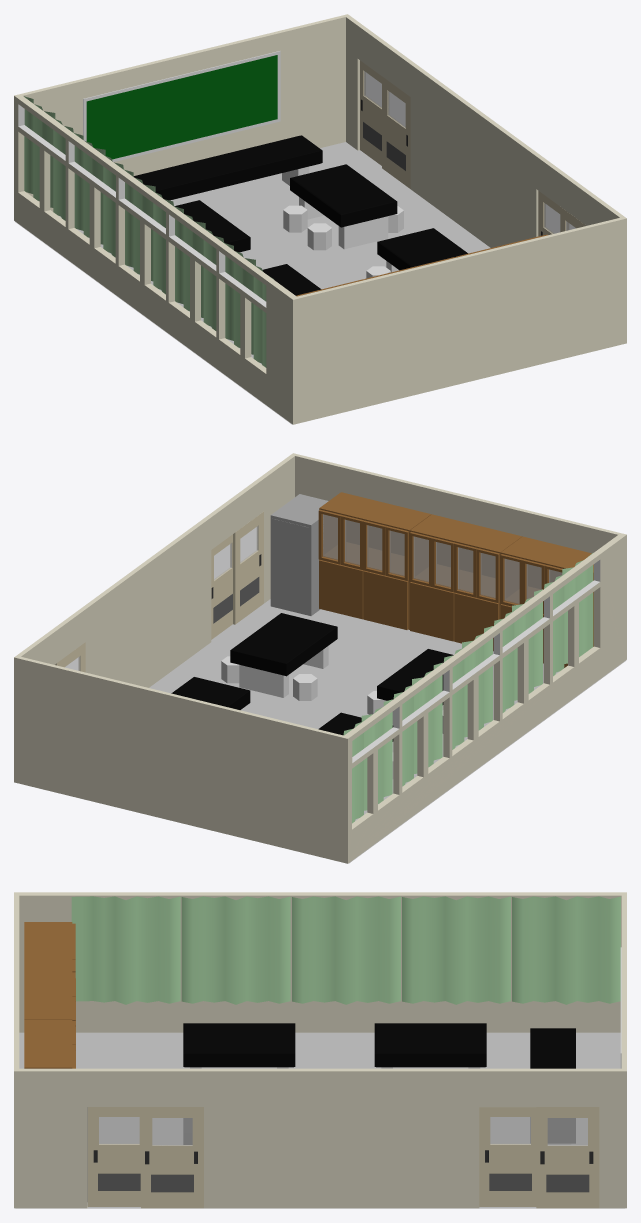
The model's file is Rikasitu.fbx.
The picture shows the model from 3 angles, top to bottom: view 1: azimuth 30°, elevation 25°; view 2: azimuth 150°, elevation 25°; view 3: azimuth 270°, elevation 25°; orthographic projection. The views are drawn at different scales.
Visible parts, largest first — view 1: Cube.094, Plane.055, Cube.093, Plane.052, Cube.100, Cube.219, Plane.053, Cube.097, Plane.054, Cube.098, Cube.099, Plane.050 (+2 smaller); view 2: Cube.094, Plane.055, Plane.052, Cube.097, Cube.102, Cube.101, Cube.096, Plane.051, Cube.191, Cube.095, Cube.184, Cube.183 (+17 smaller); view 3: Cube.094, Plane.052, Plane.055, Plane.054, Plane.050, Plane.053, Plane.051, Cube.098, Cube.099, Cube.100, Cube.101, Cube.102 (+1 smaller).
Part boxes in pixels (x1,y1,x2,y2): Cube.094: (14, 14, 626, 424); Plane.055: (14, 142, 490, 424); Cube.093: (83, 51, 280, 161); Plane.052: (24, 96, 274, 367); Cube.100: (133, 135, 322, 200); Cube.219: (290, 164, 397, 249); Plane.053: (382, 76, 410, 188); Cube.097: (377, 228, 467, 272); Plane.054: (360, 60, 381, 165); Cube.098: (174, 200, 250, 252); Cube.099: (262, 264, 321, 295); Plane.050: (538, 191, 568, 236); Cube.094: (14, 453, 626, 863); Plane.055: (149, 599, 626, 863); Plane.052: (343, 553, 593, 823); Cube.097: (230, 613, 337, 697); Cube.102: (410, 514, 522, 619); Cube.101: (319, 492, 431, 629); Cube.096: (272, 519, 308, 612); Plane.051: (233, 511, 263, 624); Cube.191: (500, 536, 593, 646); Cube.095: (270, 494, 328, 615); Cube.184: (363, 570, 408, 629); Cube.183: (319, 560, 363, 619); Cube.094: (14, 892, 626, 1208); Plane.052: (71, 896, 620, 1004); Plane.055: (15, 1032, 624, 1208); Plane.054: (536, 1107, 599, 1208); Plane.050: (141, 1107, 203, 1208); Plane.053: (479, 1107, 536, 1206); Plane.051: (87, 1107, 140, 1206); Cube.098: (374, 1023, 486, 1068); Cube.099: (183, 1023, 295, 1068); Cube.100: (530, 1028, 575, 1144); Cube.101: (24, 1019, 72, 1068); Cube.102: (24, 970, 72, 1019).
Bounding box in the file's own units: 4.75 × 6.86 × 1.75.
